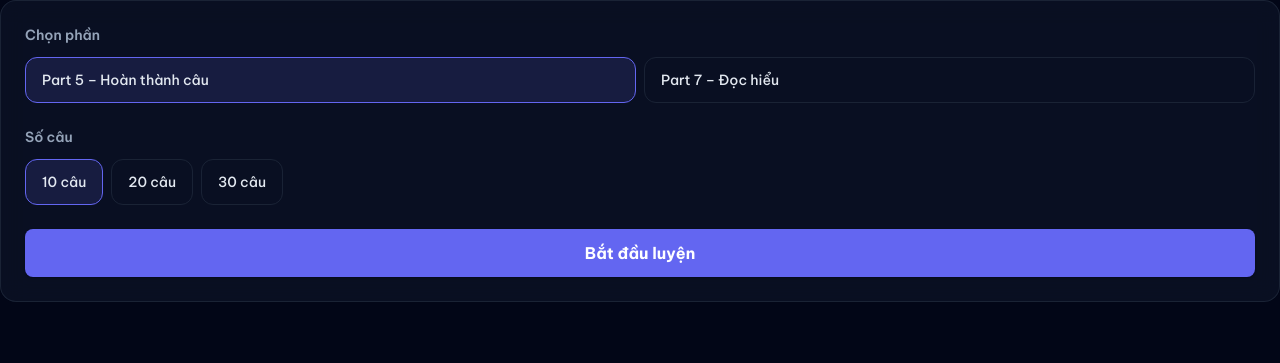
Test case: DrillSetupForm › NOT_ENOUGH_QUESTIONS → báo chưa có câu hỏi
The width and height of the screenshot is (1280, 363).
Click the button "Bắt đầu luyện" at coordinates (640, 253), box [25,229,1255,277]
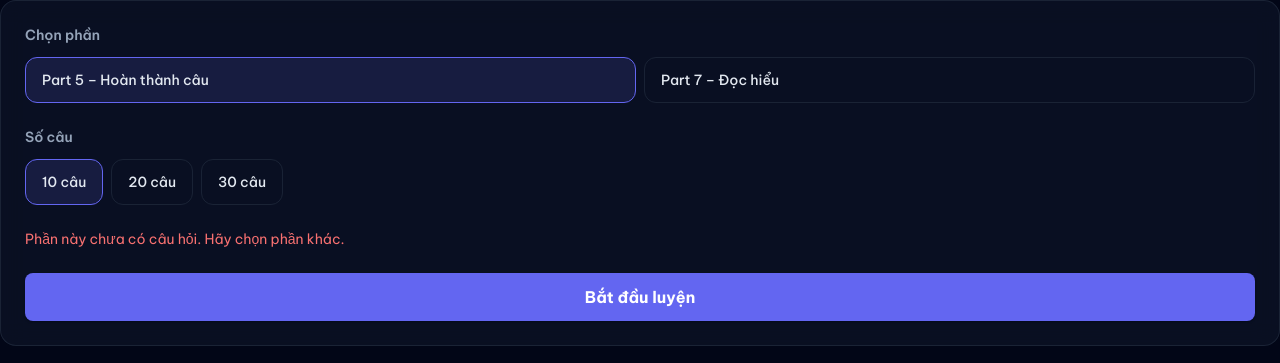
Check: the text "Phần này chưa có câu hỏi. Hãy chọn phần khác." is shown, box [25,230,344,248]
